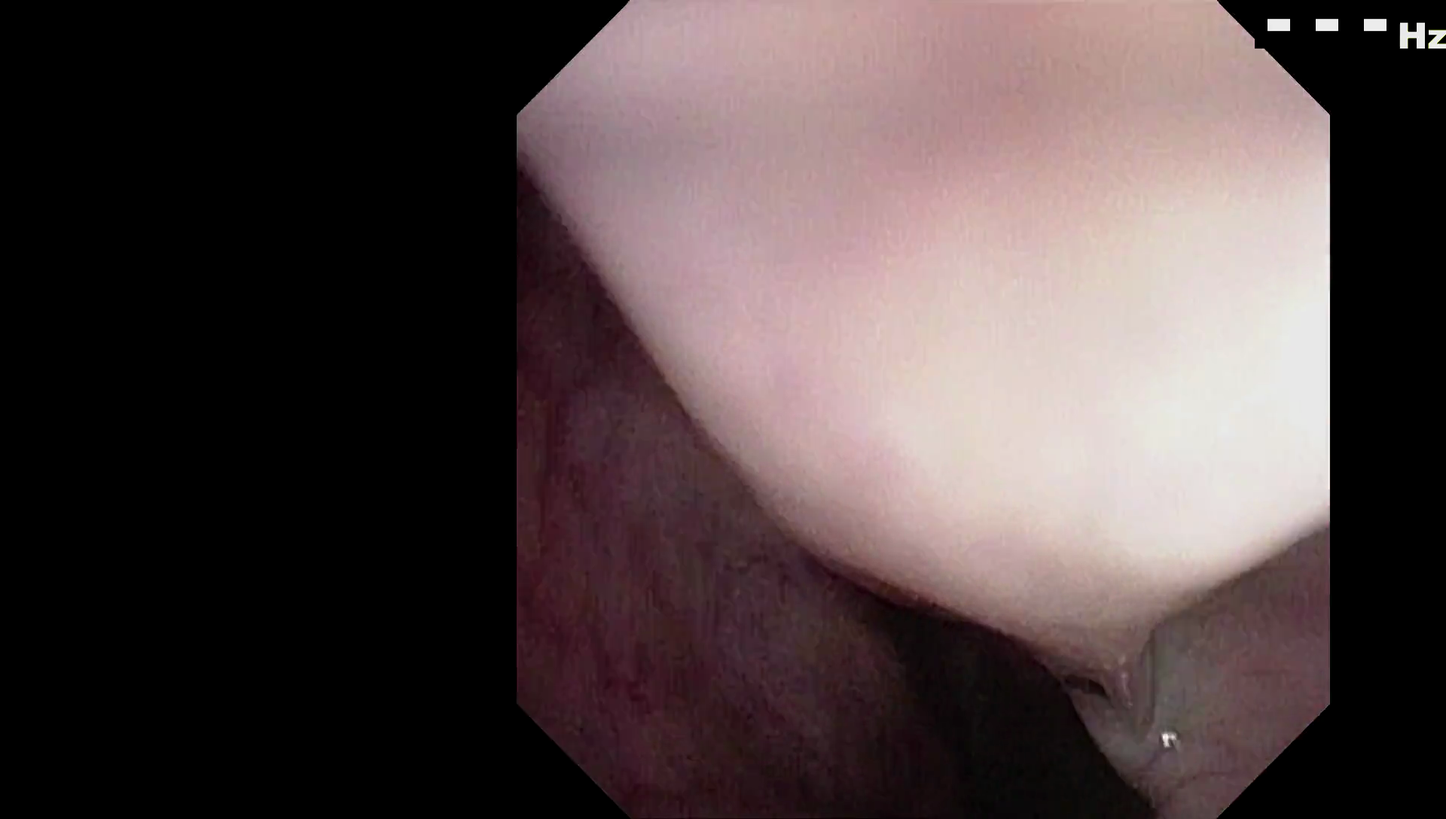close_wall: (681, 11, 1351, 596)
next: (783, 544, 1193, 819)
